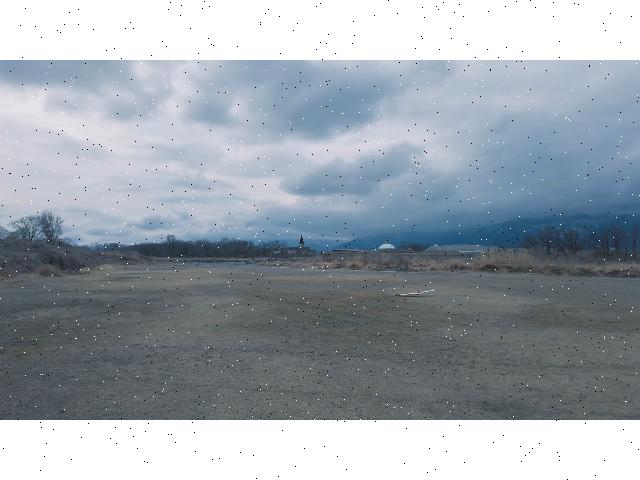Anti-Drone: (392, 284, 440, 299)
